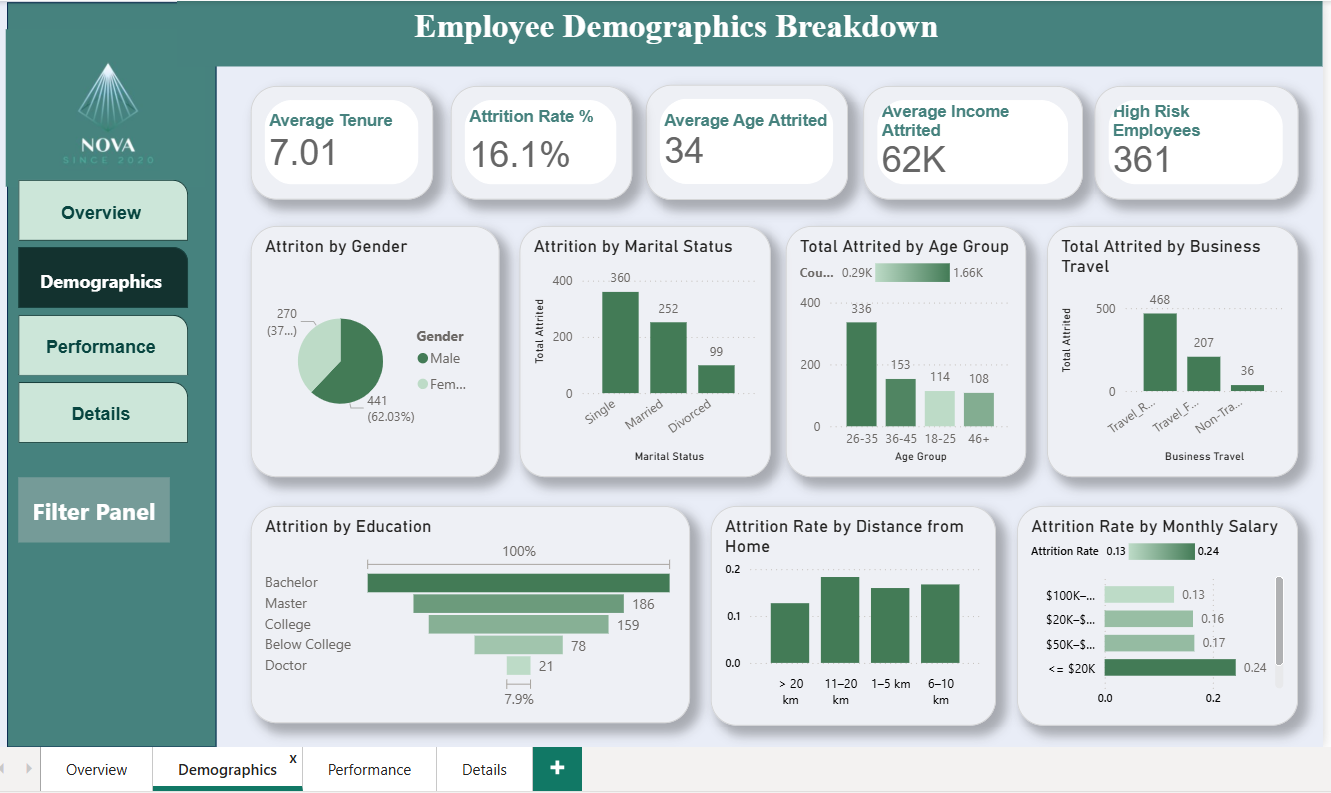

The dashboard page shown, as its layout file describes it:
{"tool":"powerbi","page":{"name":"Demographics","canvas":[1280,720],"ordinal":1},"visuals":[{"type":"cardVisual","fields":{"Data":["hr_ibm_attrition dim_employee.Avg Tenure"]},"box":[244.9,82,176.1,109.8],"z":0},{"type":"cardVisual","fields":{"Data":["hr_ibm_attrition dim_employee.Avg Age Attrited"]},"box":[626.1,80.8,195.4,111],"z":1000},{"type":"cardVisual","fields":{"Data":["hr_ibm_attrition dim_employee.Avg Income Attrited"]},"box":[836.1,82,212.3,109.8],"z":2000},{"type":"cardVisual","fields":{"Data":["hr_ibm_attrition dim_employee.High Risk Employees"]},"box":[1059.3,82,196.6,109.8],"z":3000},{"type":"clusteredColumnChart","title":"Attrition by Marital Status","fields":{"Category":["hr_ibm_attrition dim_employee.marital_status"],"Y":["hr_ibm_attrition dim_employee.Total Attrited"]},"box":[504.3,217.2,242.5,242.5],"z":4000},{"type":"pieChart","title":"Attriton by Gender","fields":{"Category":["hr_ibm_attrition dim_employee.gender"],"Y":["hr_ibm_attrition dim_employee.Total Attrited"]},"box":[244.9,217.2,240.1,242.5],"z":5000},{"type":"funnel","title":"Attrition by Education","fields":{"Category":["hr_ibm_attrition dim_employee.education_label"],"Y":["hr_ibm_attrition dim_employee.Total Attrited"]},"box":[244.6,487.2,423.7,209.9],"z":6000},{"type":"clusteredColumnChart","title":"Total Attrited by Business Travel","fields":{"Y":["hr_ibm_attrition dim_employee.Total Attrited"],"Category":["hr_ibm_attrition dim_employee.business_travel"]},"box":[1013.4,217.2,242.5,242.5],"z":7000},{"type":"clusteredColumnChart","fields":{"Category":["hr_ibm_attrition dim_employee.Age Group"],"Y":["hr_ibm_attrition dim_employee.Total Attrited"]},"box":[761.3,217.2,231.6,242.5],"z":8000},{"type":"shape","box":[10,0.7,202.2,719.3],"z":10000},{"type":"image","box":[3.9,0,202.2,206.1],"z":11000},{"type":"textbox","box":[174.1,0,1105.4,63.6],"z":12000},{"type":"pageNavigator","box":[20,172,164,254],"z":13000},{"type":"columnChart","title":"Attrition Rate by Distance from Home","fields":{"Y":["hr_ibm_attrition dim_employee.Attrition Rate"],"Category":["hr_ibm_attrition fact_attrition.Distance Band"]},"box":[689.4,487.2,275.4,211.8],"z":18000},{"type":"clusteredBarChart","title":"Attrition Rate by Monthly Salary","fields":{"Y":["hr_ibm_attrition dim_employee.Attrition Rate"],"Category":["hr_ibm_attrition fact_attrition.Income Band"]},"box":[984.1,487.2,271.5,211.8],"z":19000},{"type":"cardVisual","fields":{"Data":["hr_ibm_attrition dim_employee.Attrition Rate %"]},"box":[437.9,82,174.9,109.8],"z":21000},{"type":"actionButton","title":"Button filter","box":[20.3,459.2,146.3,63],"z":23000}]}

Visuals, with their boxes on the page's 1280x720 design canvas (x1, y1, x2, y2). These are canvas units, not pixel positions in the 1331x793 screenshot, which may show the page scaled, cropped or inside an application window:
cardVisual - hr_ibm_attrition dim_employee.Avg Tenure: {"left": 245, "top": 82, "right": 421, "bottom": 192}
cardVisual - hr_ibm_attrition dim_employee.Avg Age Attrited: {"left": 626, "top": 81, "right": 822, "bottom": 192}
cardVisual - hr_ibm_attrition dim_employee.Avg Income Attrited: {"left": 836, "top": 82, "right": 1048, "bottom": 192}
cardVisual - hr_ibm_attrition dim_employee.High Risk Employees: {"left": 1059, "top": 82, "right": 1256, "bottom": 192}
"Attrition by Marital Status" clusteredColumnChart: {"left": 504, "top": 217, "right": 747, "bottom": 460}
"Attriton by Gender" pieChart: {"left": 245, "top": 217, "right": 485, "bottom": 460}
"Attrition by Education" funnel: {"left": 245, "top": 487, "right": 668, "bottom": 697}
"Total Attrited by Business Travel" clusteredColumnChart: {"left": 1013, "top": 217, "right": 1256, "bottom": 460}
clusteredColumnChart - hr_ibm_attrition dim_employee.Age Group x hr_ibm_attrition dim_employee.Total Attrited: {"left": 761, "top": 217, "right": 993, "bottom": 460}
shape: {"left": 10, "top": 1, "right": 212, "bottom": 720}
image: {"left": 4, "top": 0, "right": 206, "bottom": 206}
textbox: {"left": 174, "top": 0, "right": 1280, "bottom": 64}
pageNavigator: {"left": 20, "top": 172, "right": 184, "bottom": 426}
"Attrition Rate by Distance from Home" columnChart: {"left": 689, "top": 487, "right": 965, "bottom": 699}
"Attrition Rate by Monthly Salary" clusteredBarChart: {"left": 984, "top": 487, "right": 1256, "bottom": 699}
cardVisual - hr_ibm_attrition dim_employee.Attrition Rate %: {"left": 438, "top": 82, "right": 613, "bottom": 192}
"Button filter" actionButton: {"left": 20, "top": 459, "right": 167, "bottom": 522}
